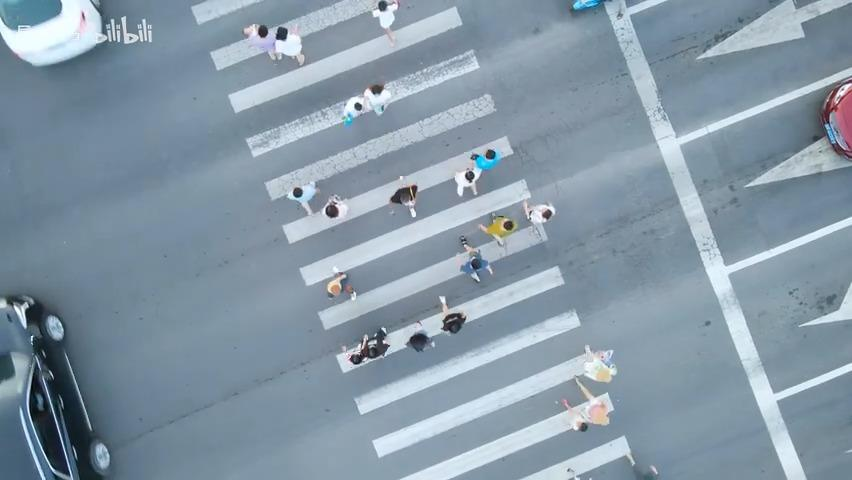Civilian: (561, 375, 610, 431), (458, 234, 493, 282), (348, 326, 390, 364), (581, 344, 617, 383), (273, 23, 305, 66), (242, 23, 278, 61), (478, 211, 517, 246), (370, 0, 399, 47), (522, 198, 556, 238), (285, 180, 320, 216), (439, 294, 466, 333), (326, 266, 356, 301), (388, 183, 418, 217), (405, 320, 435, 353), (362, 83, 391, 117), (453, 165, 482, 197), (470, 147, 502, 170), (341, 95, 365, 124), (321, 194, 347, 219), (571, 0, 605, 11)
